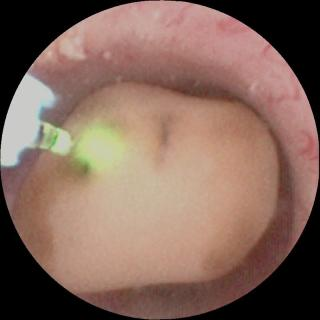laser: (77, 126, 122, 169), (52, 128, 72, 154)
stone: (16, 84, 280, 294)
